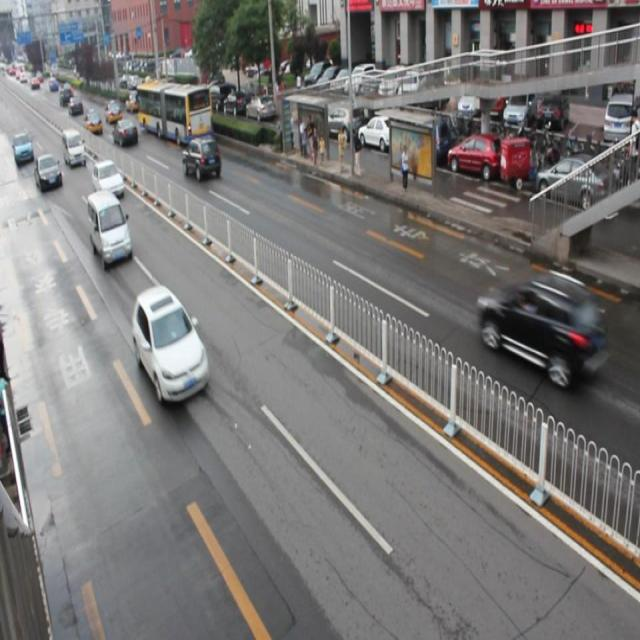car: (476, 269, 604, 392), (132, 286, 208, 404), (181, 139, 221, 180), (93, 163, 124, 198), (36, 155, 61, 191), (115, 119, 136, 146)
truck: (87, 188, 130, 266), (64, 129, 87, 168)
van: (136, 82, 211, 146)
